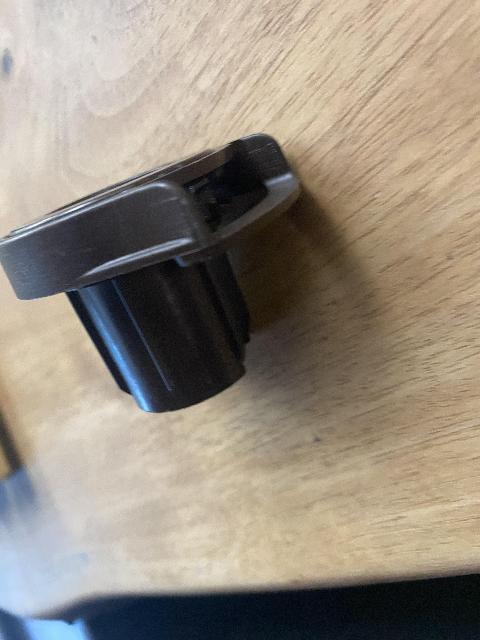Plastik: (6, 140, 302, 405)
